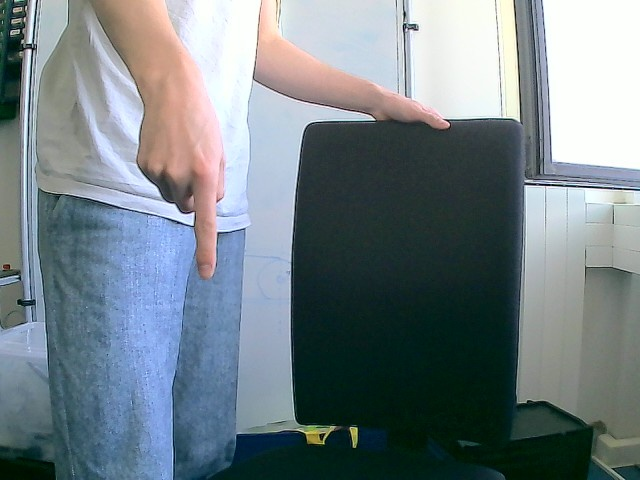down: (135, 93, 227, 280)
no_gesture: (365, 81, 455, 133)
